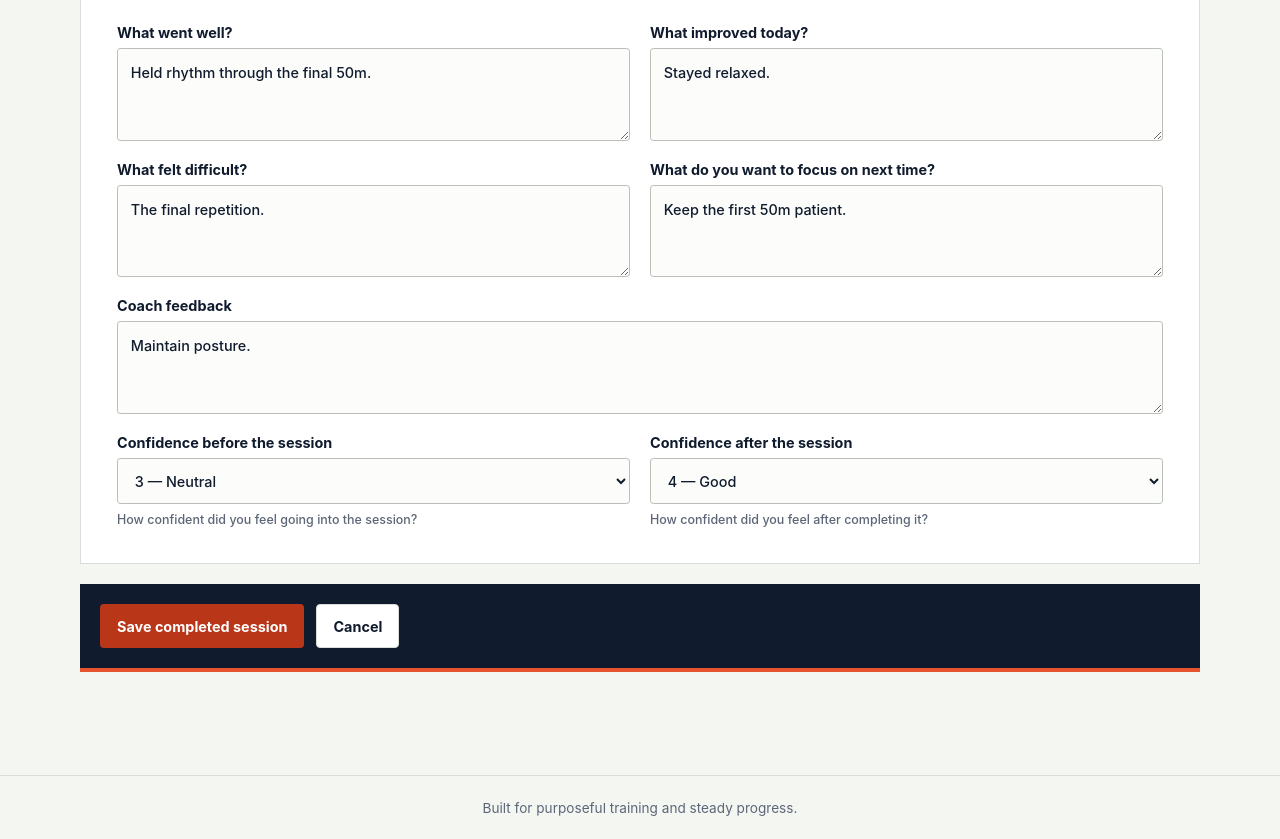
Test: session completion and reflection › presents a negative XP update neutrally
(page scrolled)
Click the button "Save completed session" at x=202, y=626, box [100,604,304,648]
(page scrolled)
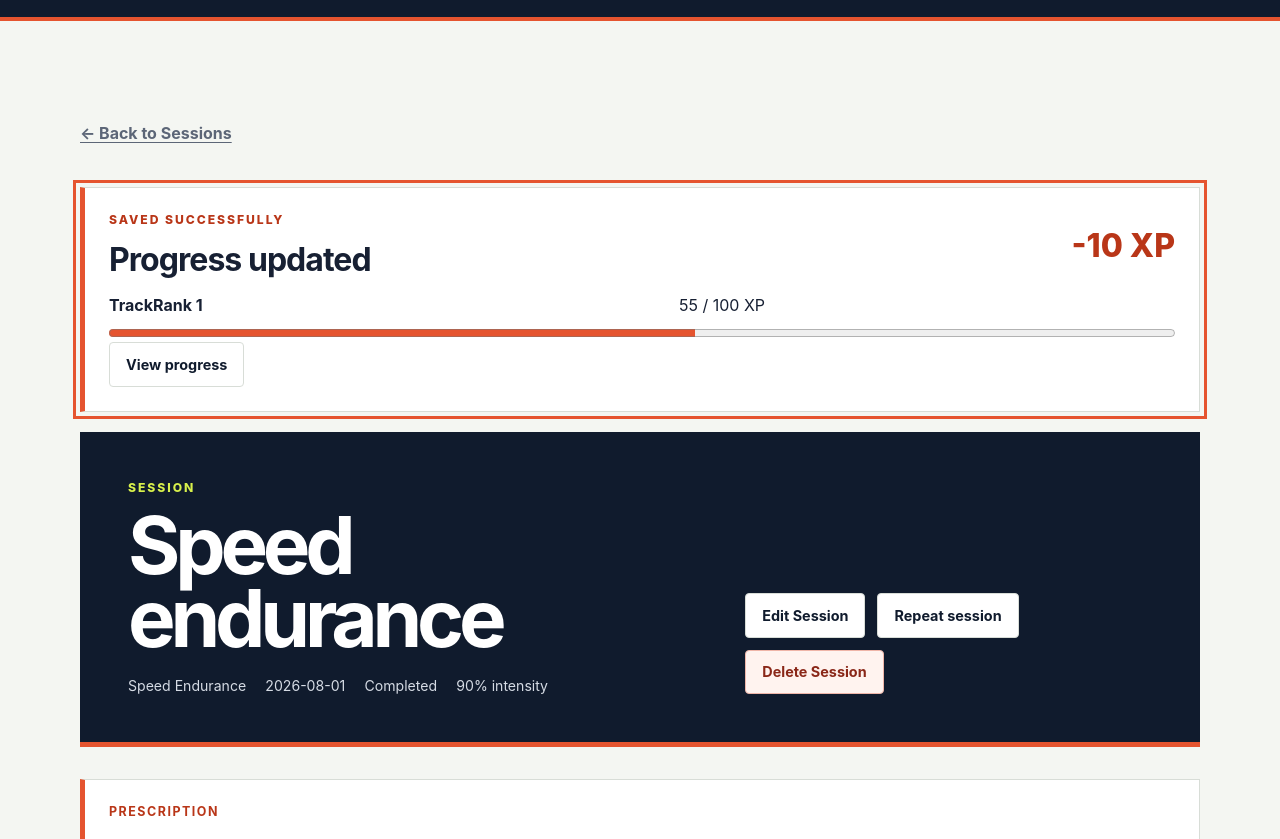
Expected: the heading "Progress updated" is shown, [109,240,371,279]
Expected: the text "-10 XP" is shown, [1071,226,1175,265]
